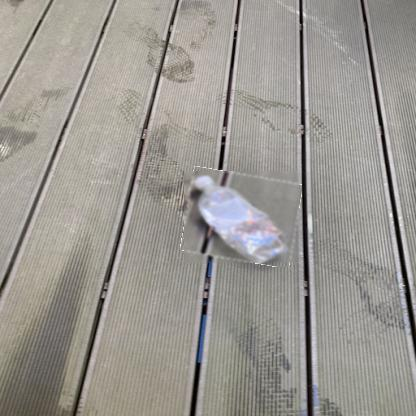plastic-bottles: (185, 172, 301, 265)
